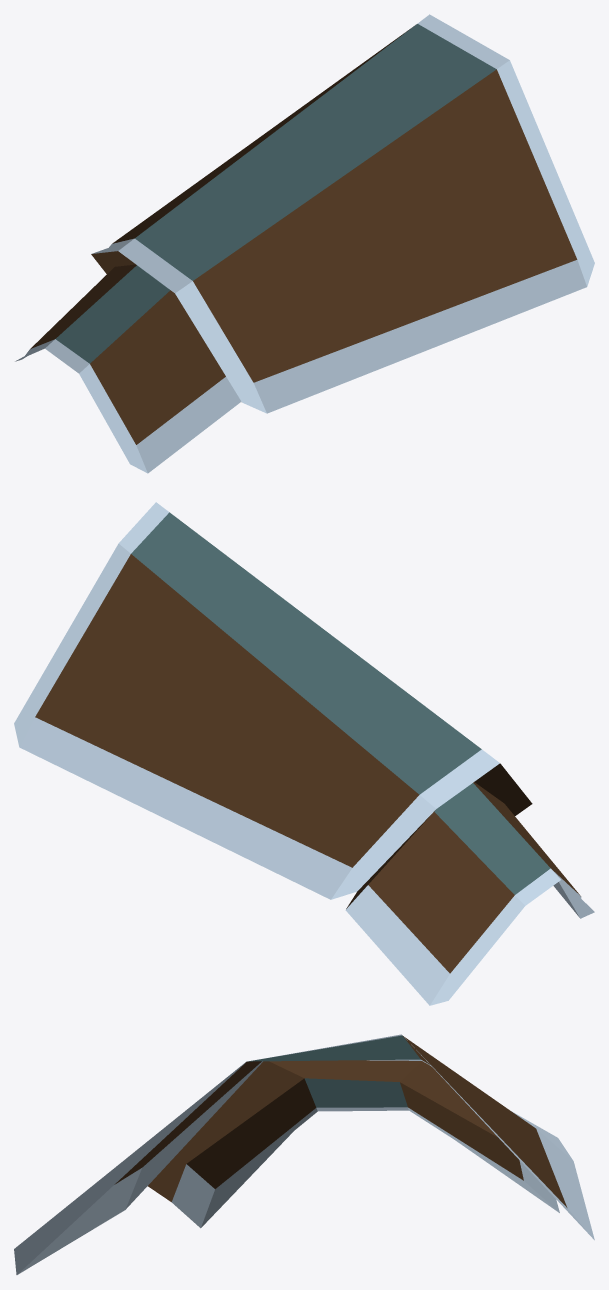
Rendered from leather_rshoulderpad_obj.fbx.
The picture shows the model from 3 angles, top to bottom: view 1: azimuth 30°, elevation 25°; view 2: azimuth 150°, elevation 25°; view 3: azimuth 270°, elevation 25°; orthographic projection. The views are drawn at different scales.
Visible parts, largest first — view 1: Rshoulderpad; view 2: Rshoulderpad; view 3: Rshoulderpad.
Part boxes in pixels (x1,y1,x2,y2): Rshoulderpad: (15,14,594,473); Rshoulderpad: (14,502,594,1005); Rshoulderpad: (14,1034,594,1274).
Bounding box in the file's own units: 176 × 130 × 159.
